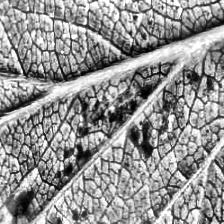Angular Leafspot: (0, 8, 224, 224)
